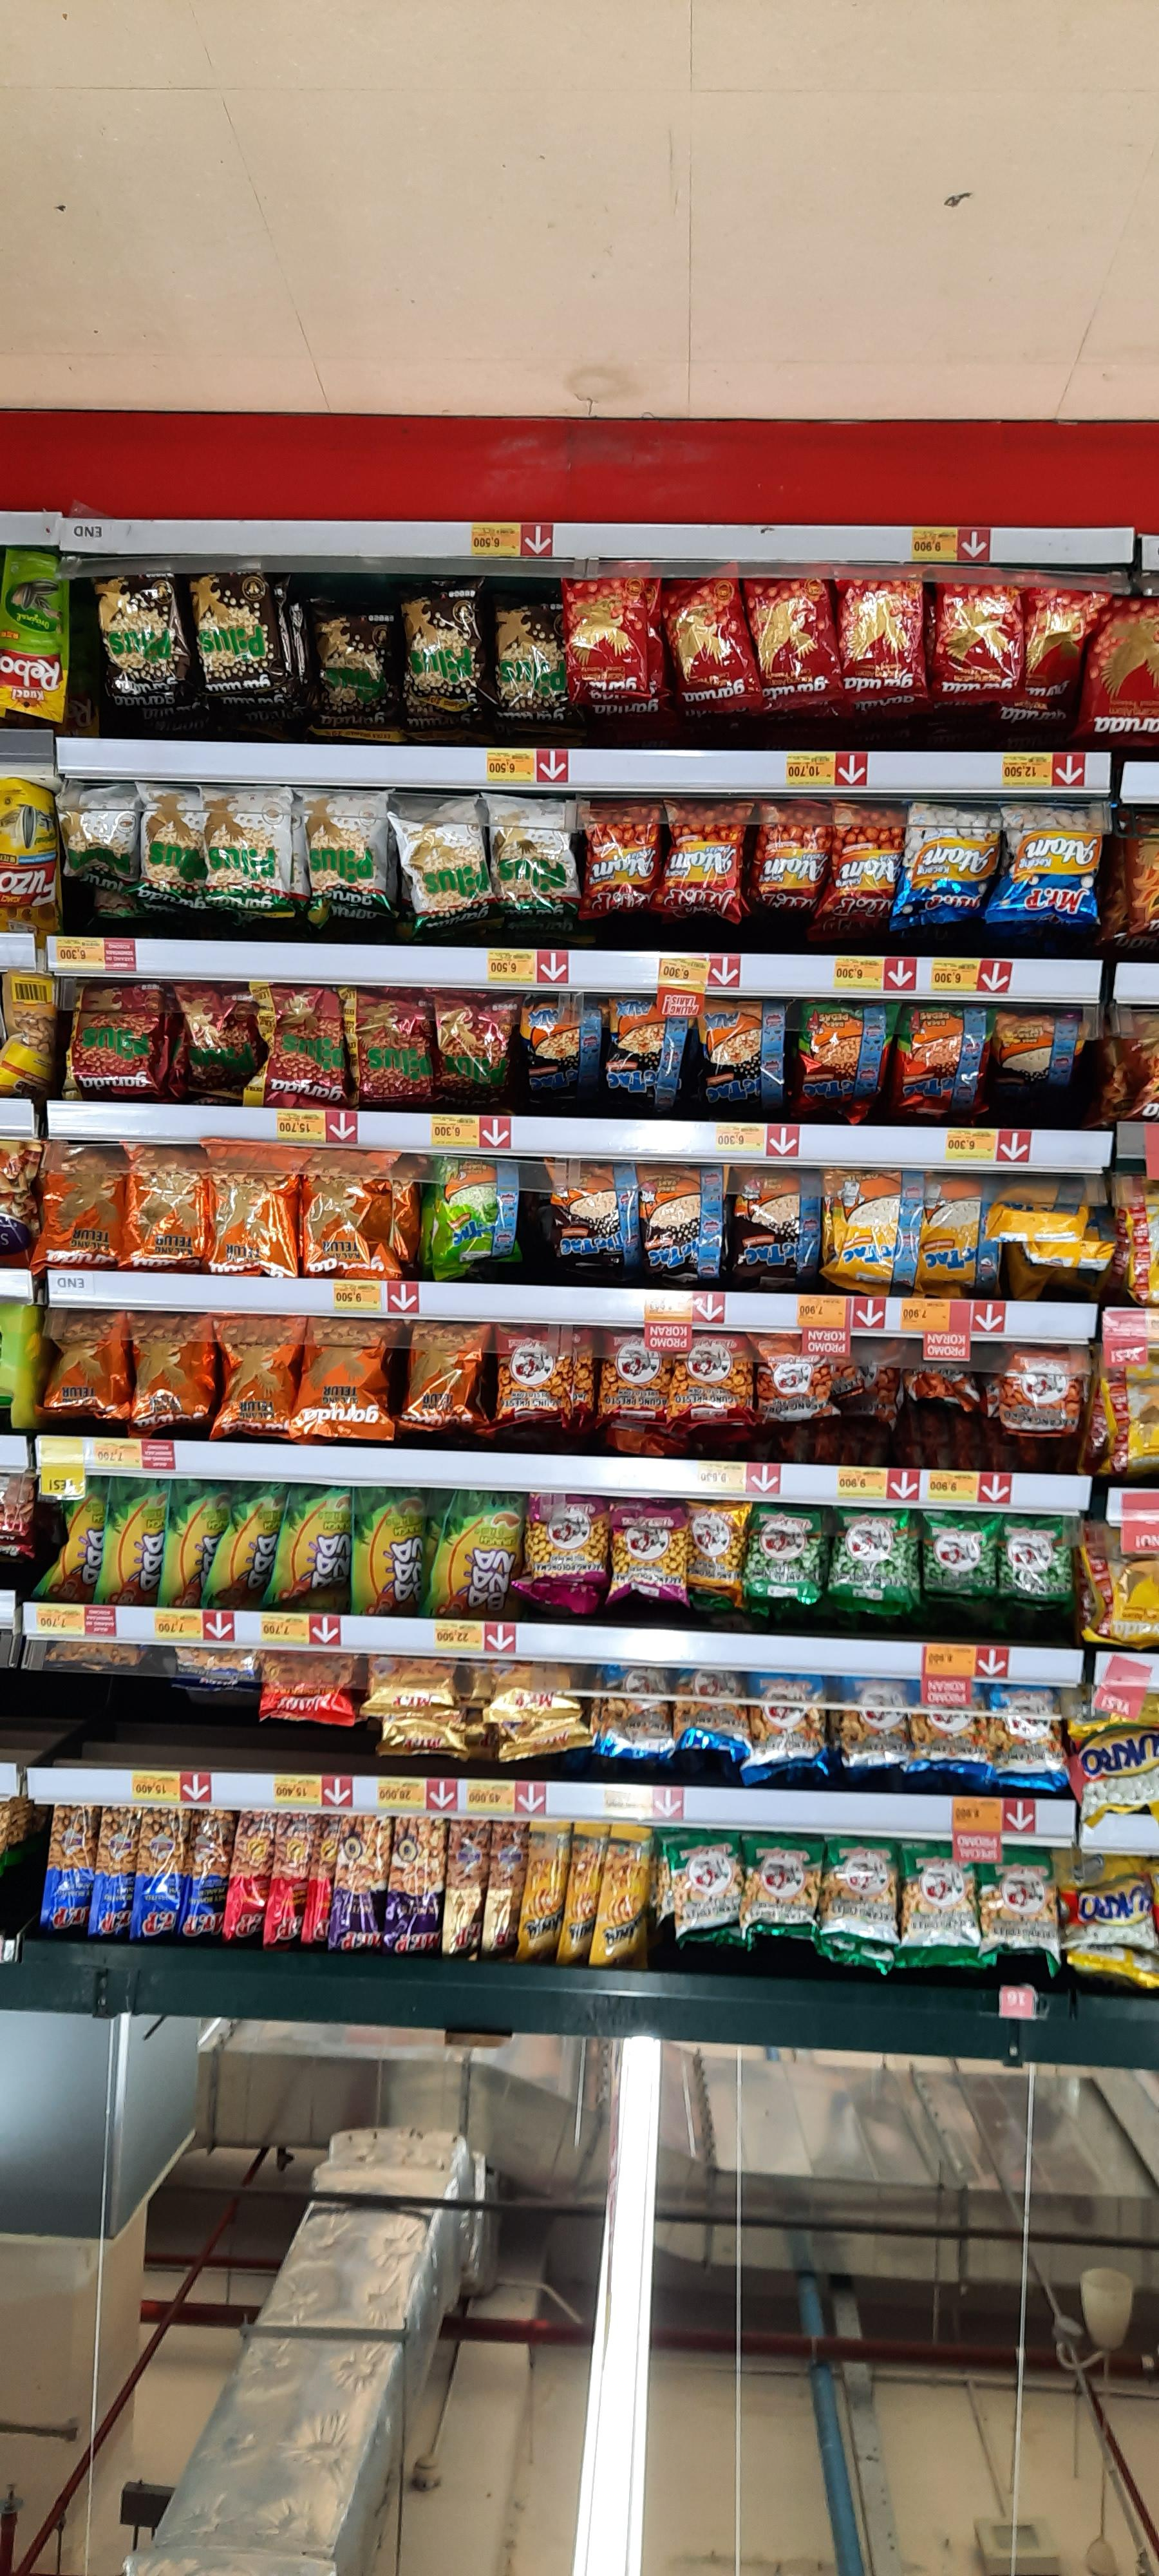90101111302100: (581, 582, 678, 721), (665, 580, 762, 720), (842, 583, 931, 708), (762, 578, 841, 713), (936, 586, 1021, 708)
90101111701100: (305, 1150, 415, 1280), (208, 1145, 295, 1273), (43, 1145, 125, 1275), (126, 1142, 208, 1270)
90101111702100: (208, 1318, 302, 1442), (302, 1322, 396, 1446), (44, 1313, 133, 1424), (135, 1318, 213, 1428), (402, 1326, 478, 1431)
90101151201100: (248, 987, 355, 1114), (62, 981, 158, 1092), (343, 991, 427, 1102), (428, 994, 512, 1104)
90101151402100: (85, 577, 187, 698), (488, 603, 568, 724), (200, 568, 281, 690), (396, 591, 476, 713)
90101151604100: (484, 792, 589, 936), (30, 775, 135, 920), (297, 789, 389, 935), (387, 800, 484, 938), (205, 792, 295, 925), (143, 780, 199, 905)
KacangDuaKelinciAyamBawang: (607, 1502, 683, 1605), (524, 1498, 599, 1602)
KacangDuaKelinciBawang: (977, 1845, 1059, 1970), (898, 1842, 980, 1966), (824, 1838, 901, 1947), (668, 1835, 742, 1947), (744, 1843, 822, 1940)
KacangDuaKelinciBbq: (689, 1500, 740, 1594)
KacangDuaKelinciMixNut: (982, 1689, 1064, 1786), (596, 1659, 678, 1756), (744, 1672, 826, 1769), (914, 1684, 987, 1778), (837, 1679, 908, 1769), (678, 1666, 745, 1756)
KacangDuaKelinciPedas: (489, 1326, 581, 1421), (996, 1347, 1087, 1434), (754, 1339, 837, 1431), (593, 1334, 673, 1421), (675, 1341, 750, 1421)
KacangDuaKelinciPolong: (831, 1513, 911, 1598), (926, 1510, 998, 1602), (750, 1513, 822, 1603), (1001, 1515, 1072, 1605)
Mr.pKacangAtomPedas: (665, 797, 749, 933), (579, 793, 663, 928), (826, 800, 900, 927), (755, 800, 822, 922)
Mr.pKacangOriginal: (993, 798, 1102, 927), (908, 803, 1006, 930)
TicTacBbq: (732, 1158, 818, 1281), (550, 1158, 635, 1281), (639, 1160, 722, 1283)
TicTacMix: (699, 999, 783, 1106), (602, 997, 686, 1102), (515, 991, 598, 1096)
TicTacOriginal: (822, 1166, 916, 1285), (926, 1175, 1000, 1293)
TicTacPedas: (803, 1000, 896, 1111), (893, 1010, 985, 1120)
TicTacSeaWeed: (432, 1160, 519, 1285)
